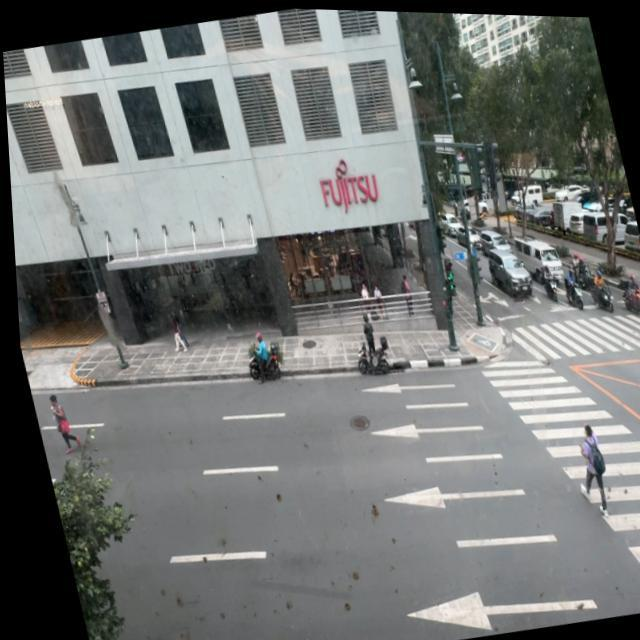jaywalking: (48, 390, 84, 454)
